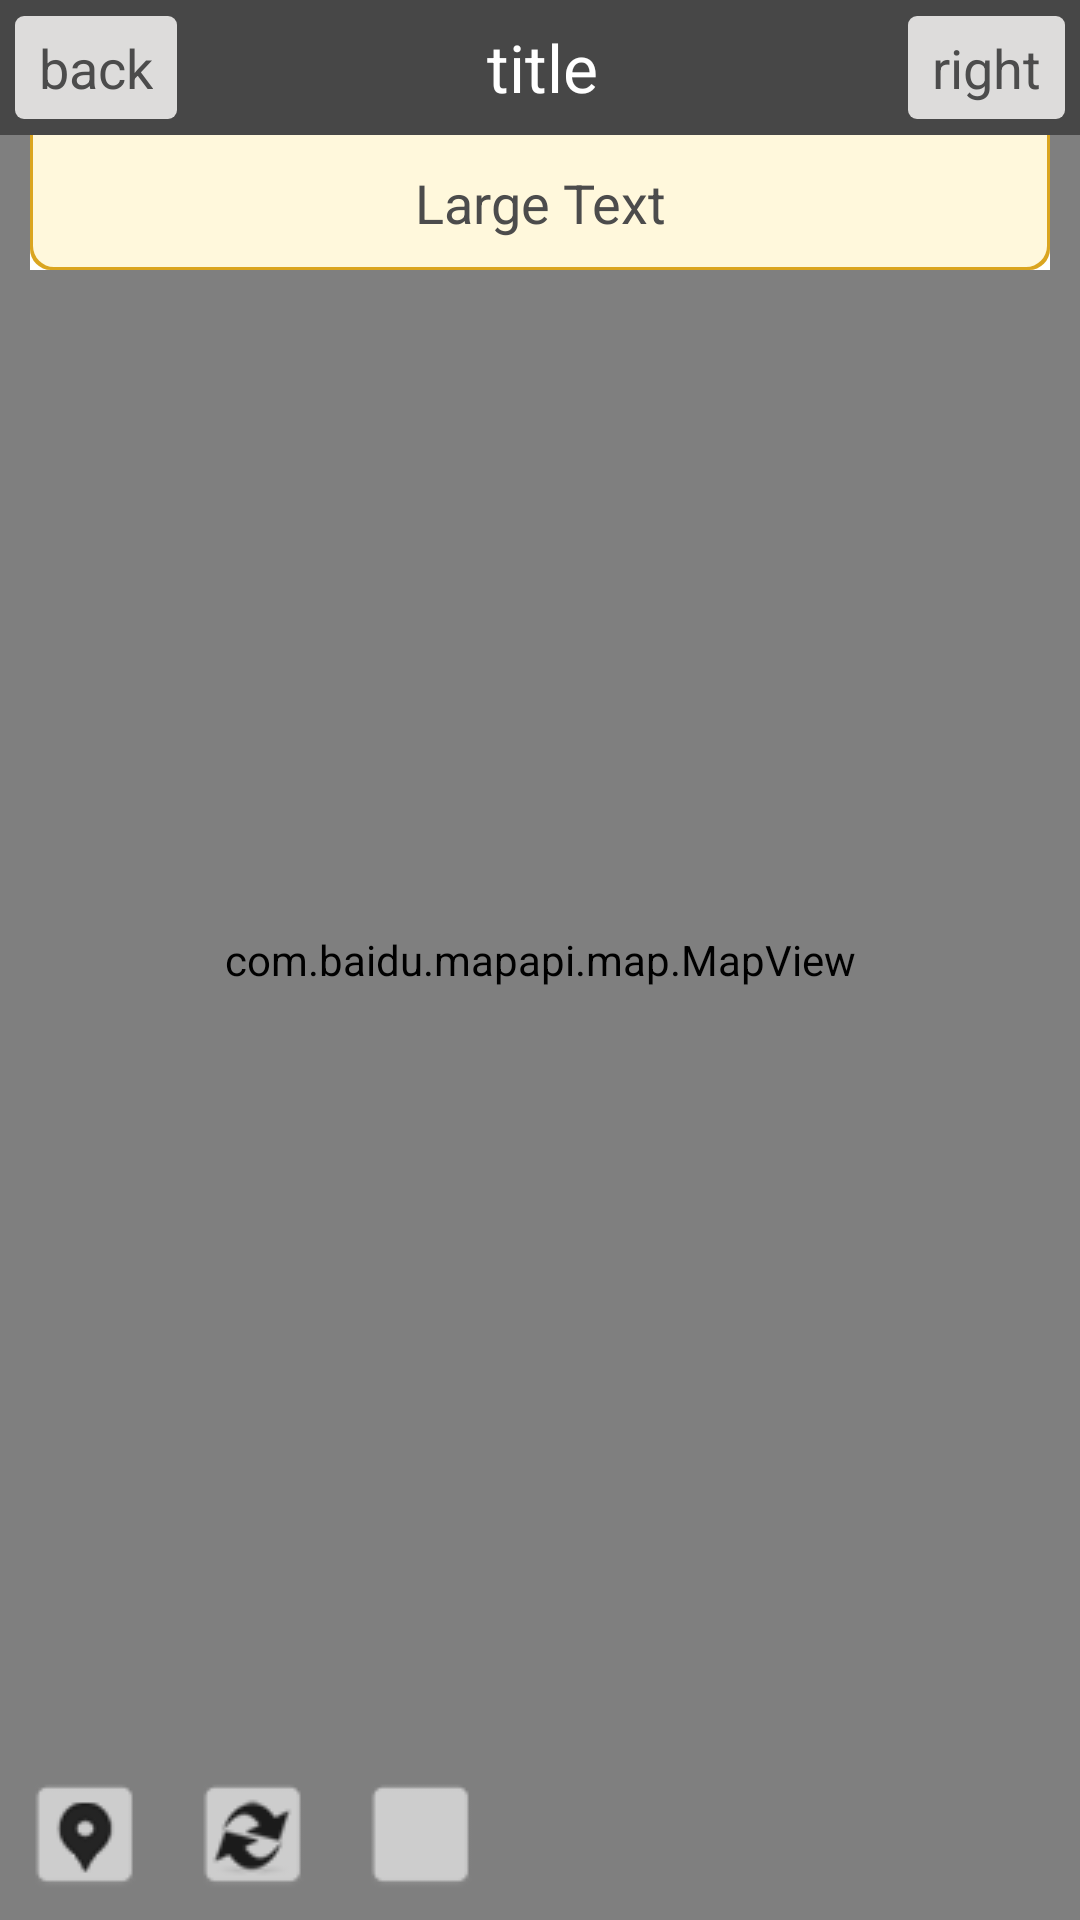

Icon bounding boxes for this 1080px×1920px phone screenshot, format (x1, y1, x2, y2):
map mylocate: (37, 1787, 132, 1882)
map refresh: (205, 1787, 300, 1882)
